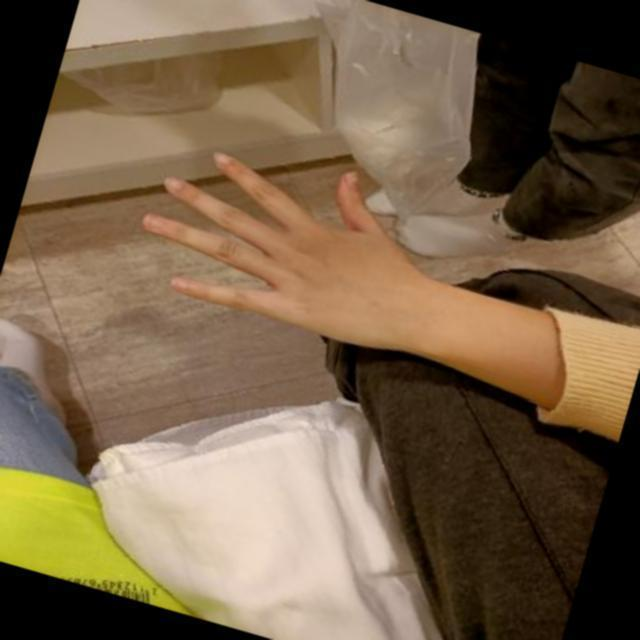Hand: (140, 152, 456, 362)
